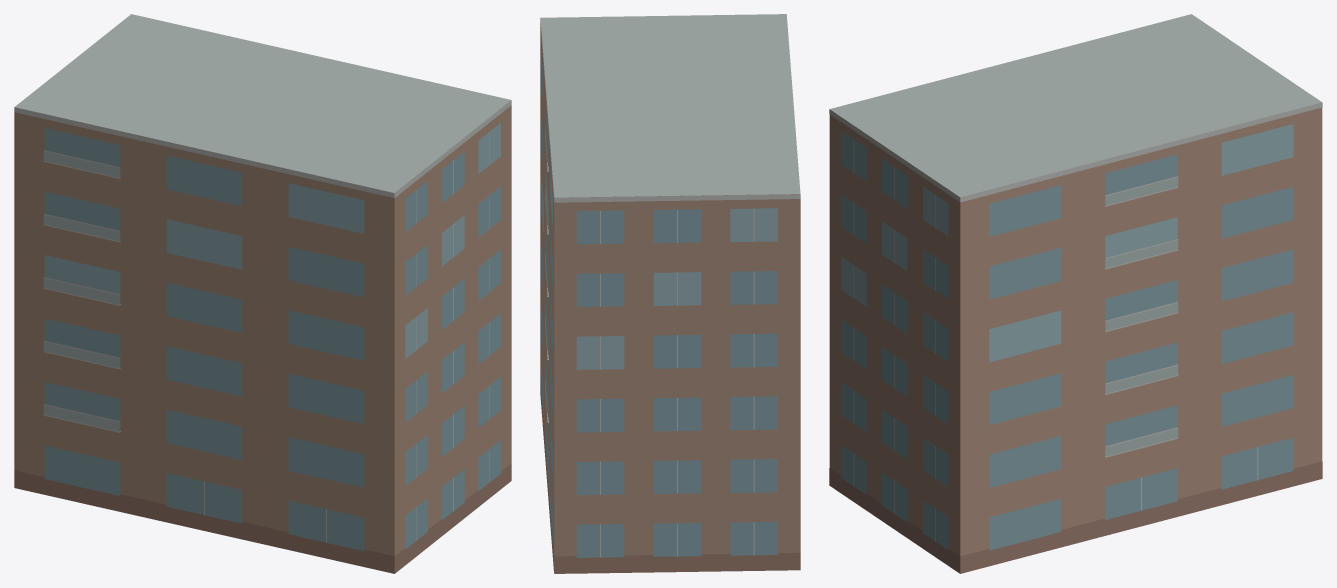
The model's file is survey-upis-32768337.glb.
3 renders of one model, left to right at view 1: azimuth 30°, elevation 25°; view 2: azimuth 150°, elevation 25°; view 3: azimuth 270°, elevation 25°, orthographic.
Visible parts, largest first — view 1: survey-upis-32768337.tmp; view 2: survey-upis-32768337.tmp; view 3: survey-upis-32768337.tmp.
Part boxes in pixels (x1,y1,x2,y2): survey-upis-32768337.tmp: (14, 14, 511, 573); survey-upis-32768337.tmp: (540, 14, 800, 573); survey-upis-32768337.tmp: (829, 14, 1322, 573).
Size of the model in its own units: 19.13 by 18.3 by 21.73.
